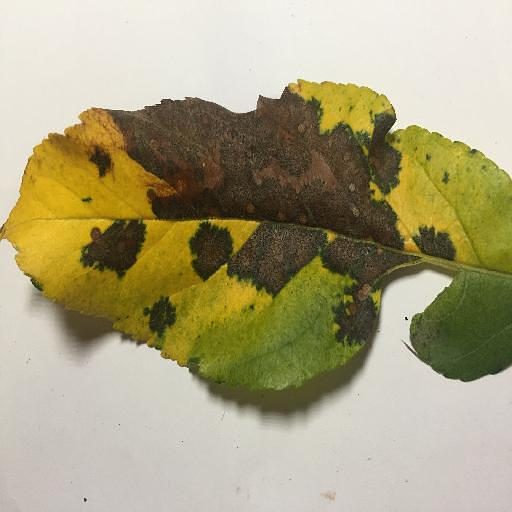Brown_Spot: (109, 108, 407, 227), (225, 209, 324, 287), (65, 220, 155, 274), (321, 241, 413, 280), (185, 217, 234, 276), (406, 223, 458, 262), (339, 290, 371, 341), (87, 139, 121, 179), (147, 300, 179, 332)
